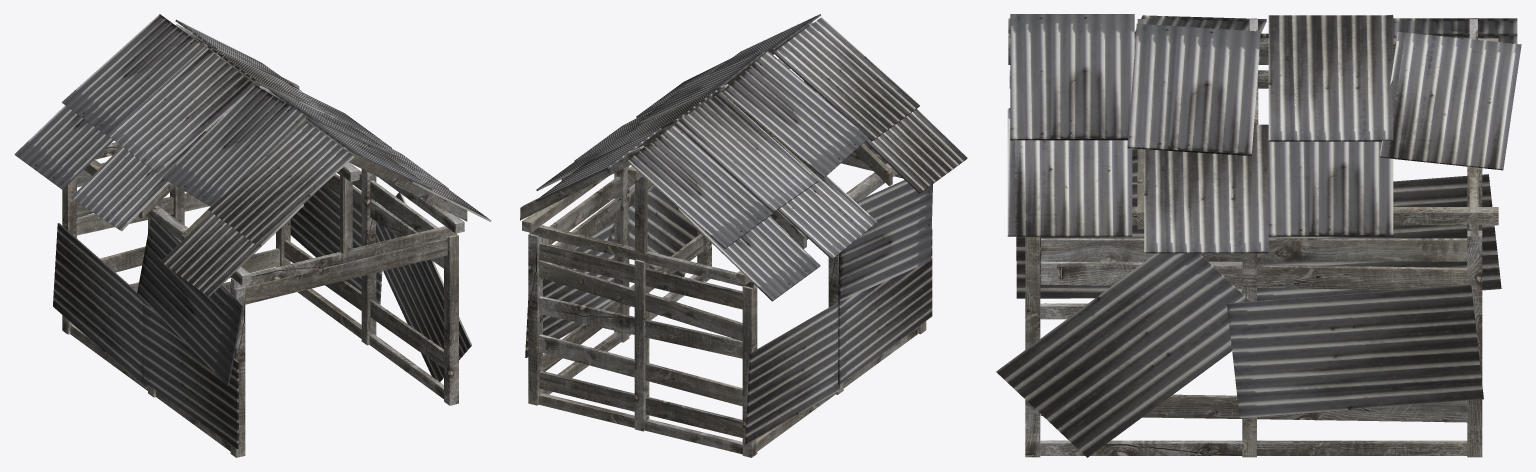
File: houseAbandonedB.FBX
The picture shows the model from 3 angles, left to right: view 1: azimuth 30°, elevation 25°; view 2: azimuth 150°, elevation 25°; view 3: azimuth 270°, elevation 25°; orthographic projection. The views are drawn at different scales.
Parts seen in each view (by area): view 1: abandonedHouseB; view 2: abandonedHouseB; view 3: abandonedHouseB.
Boxes of the visible parts, x1,y1,x2,y2 form: abandonedHouseB: (14, 14, 491, 457); abandonedHouseB: (520, 14, 967, 457); abandonedHouseB: (996, 14, 1521, 457).
Bounding box in the file's own units: 159 × 147 × 188.
1 material, 1 textured.
